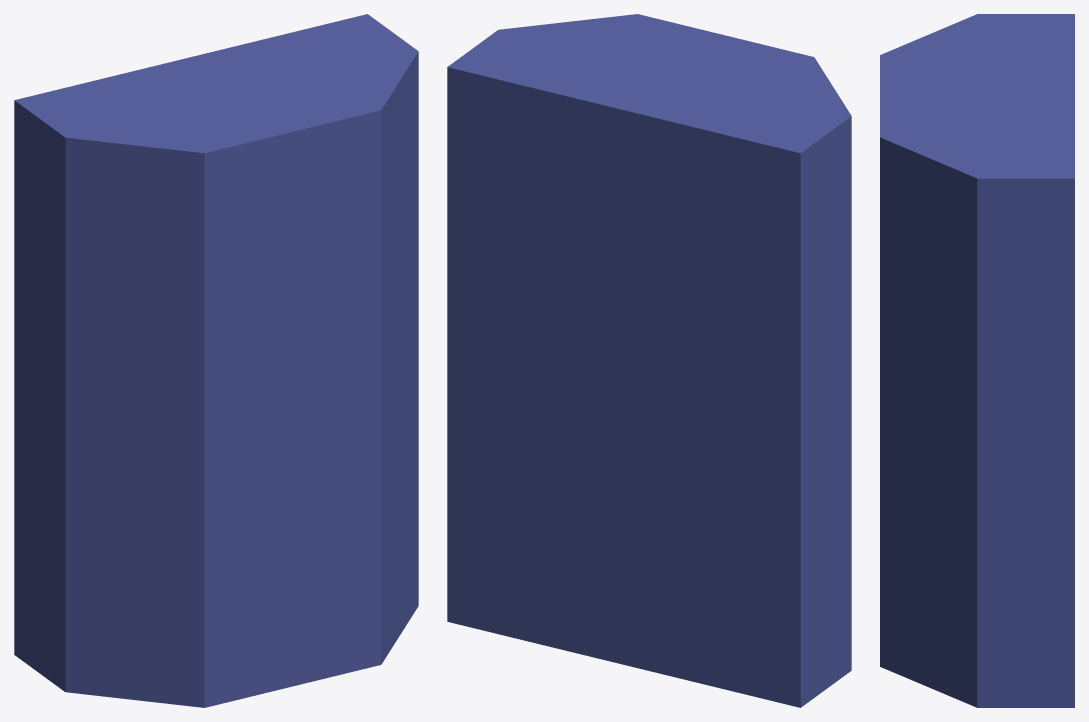
File: CoL_AngledCube_03.fbx
3 renders of one model, left to right at view 1: azimuth 30°, elevation 25°; view 2: azimuth 150°, elevation 25°; view 3: azimuth 270°, elevation 25°, orthographic. The views are drawn at different scales.
Visible parts, largest first — view 1: CoL_AngledCube_03; view 2: CoL_AngledCube_03; view 3: CoL_AngledCube_03.
Part boxes in pixels (x1,y1,x2,y2): CoL_AngledCube_03: (14, 14, 418, 707); CoL_AngledCube_03: (447, 14, 851, 707); CoL_AngledCube_03: (880, 14, 1074, 707).
Size of the model in its own units: 400 by 600 by 200.
